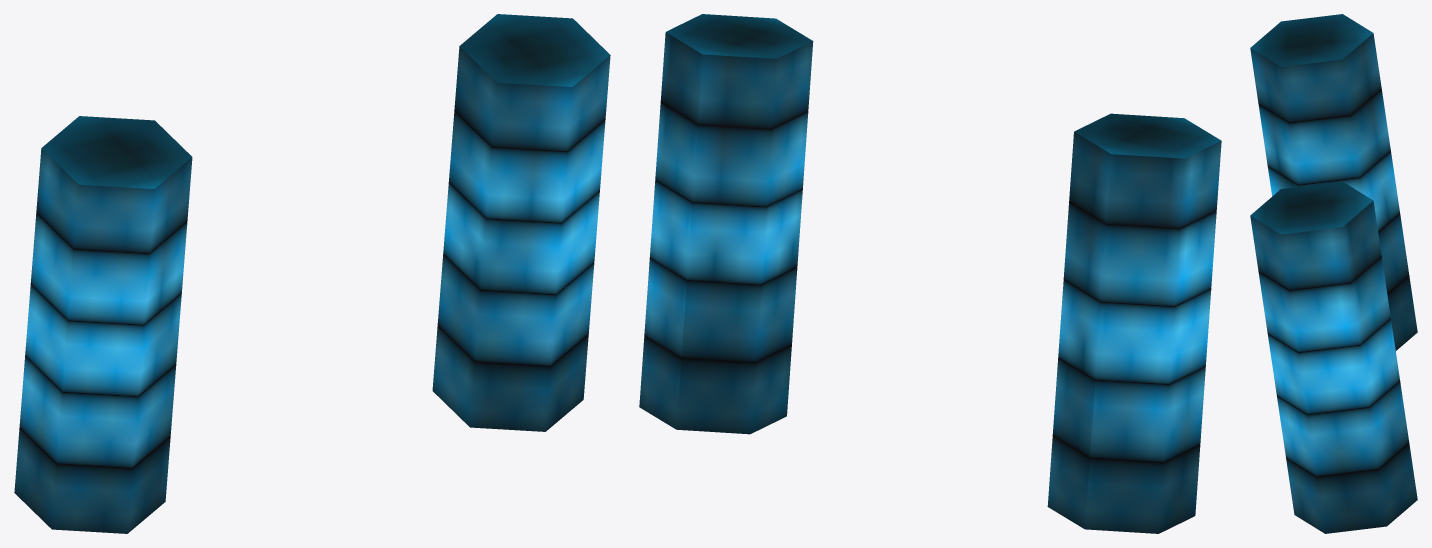
File: grave_marine_shield_generator_batteries.glb
3 renders of one model, left to right at view 1: azimuth 30°, elevation 25°; view 2: azimuth 150°, elevation 25°; view 3: azimuth 270°, elevation 25°, orthographic. The views are drawn at different scales.
Parts seen in each view (by area): view 1: scythe_marine_shield_generator_batteries; view 2: scythe_marine_shield_generator_batteries; view 3: scythe_marine_shield_generator_batteries.
Boxes of the visible parts, <box> form: scythe_marine_shield_generator_batteries: <box>14,14,610,533</box>; scythe_marine_shield_generator_batteries: <box>639,14,1221,533</box>; scythe_marine_shield_generator_batteries: <box>1250,14,1417,533</box>.
Size of the model in its own units: 0.6844 by 0.4708 by 0.2274.
Materials: 1 (1 with a texture image).
